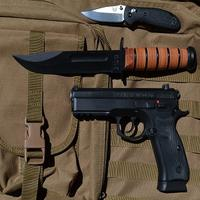knife: (8, 41, 200, 77), (78, 1, 189, 36)
